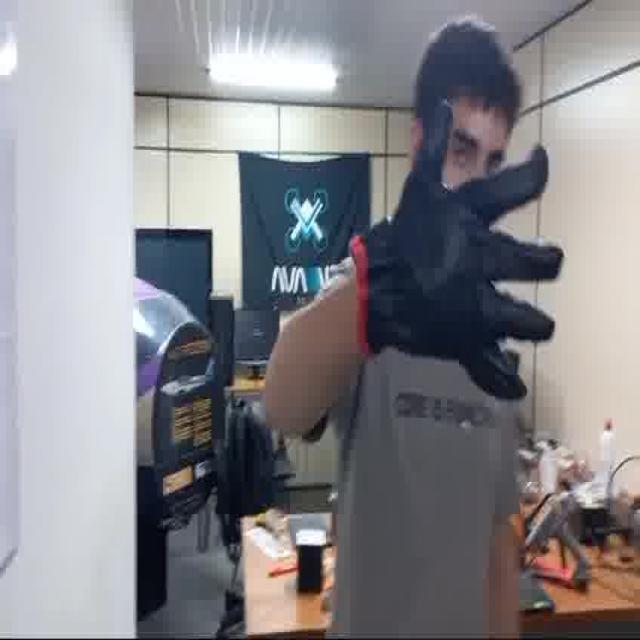Gloves: (352, 105, 564, 401)
